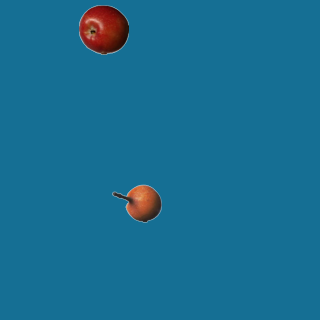Apple Braeburn: (78, 4, 128, 54)
Granadilla: (111, 178, 161, 228)
